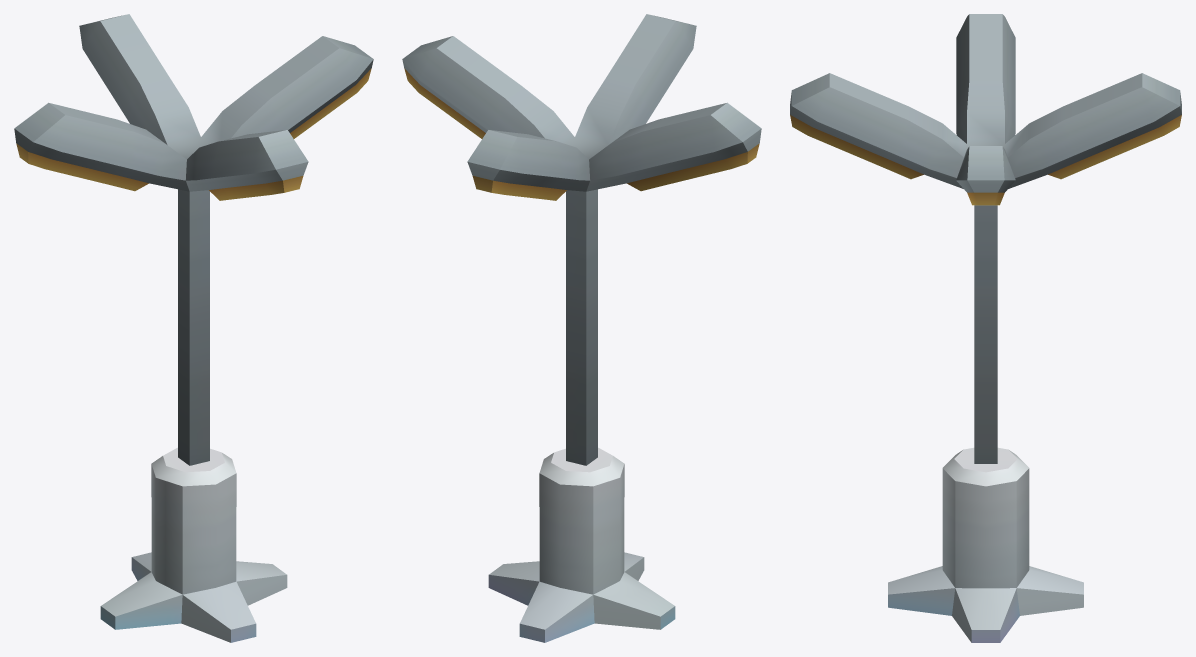
Rendered from lights.glb.
3 views of the same model, side by side, from view 1: azimuth 30°, elevation 25°; view 2: azimuth 150°, elevation 25°; view 3: azimuth 270°, elevation 25° (orthographic).
Parts seen in each view (by area): view 1: lights; view 2: lights; view 3: lights.
Boxes of the visible parts, x1,y1,x2,y2 form: lights: (14, 14, 373, 642); lights: (402, 14, 761, 642); lights: (790, 14, 1181, 642).
Size of the model in its own units: 0.68 by 0.9984 by 0.68.
Materials: 1 (1 with a texture image).
